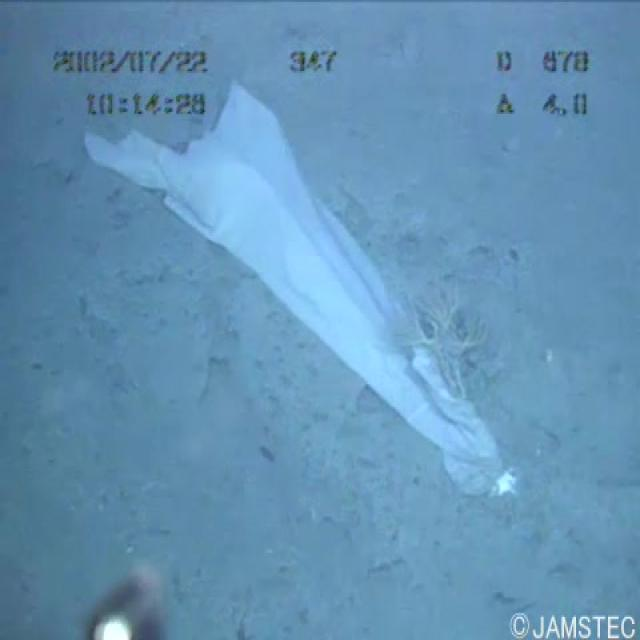plastic: (45, 48, 532, 505)
